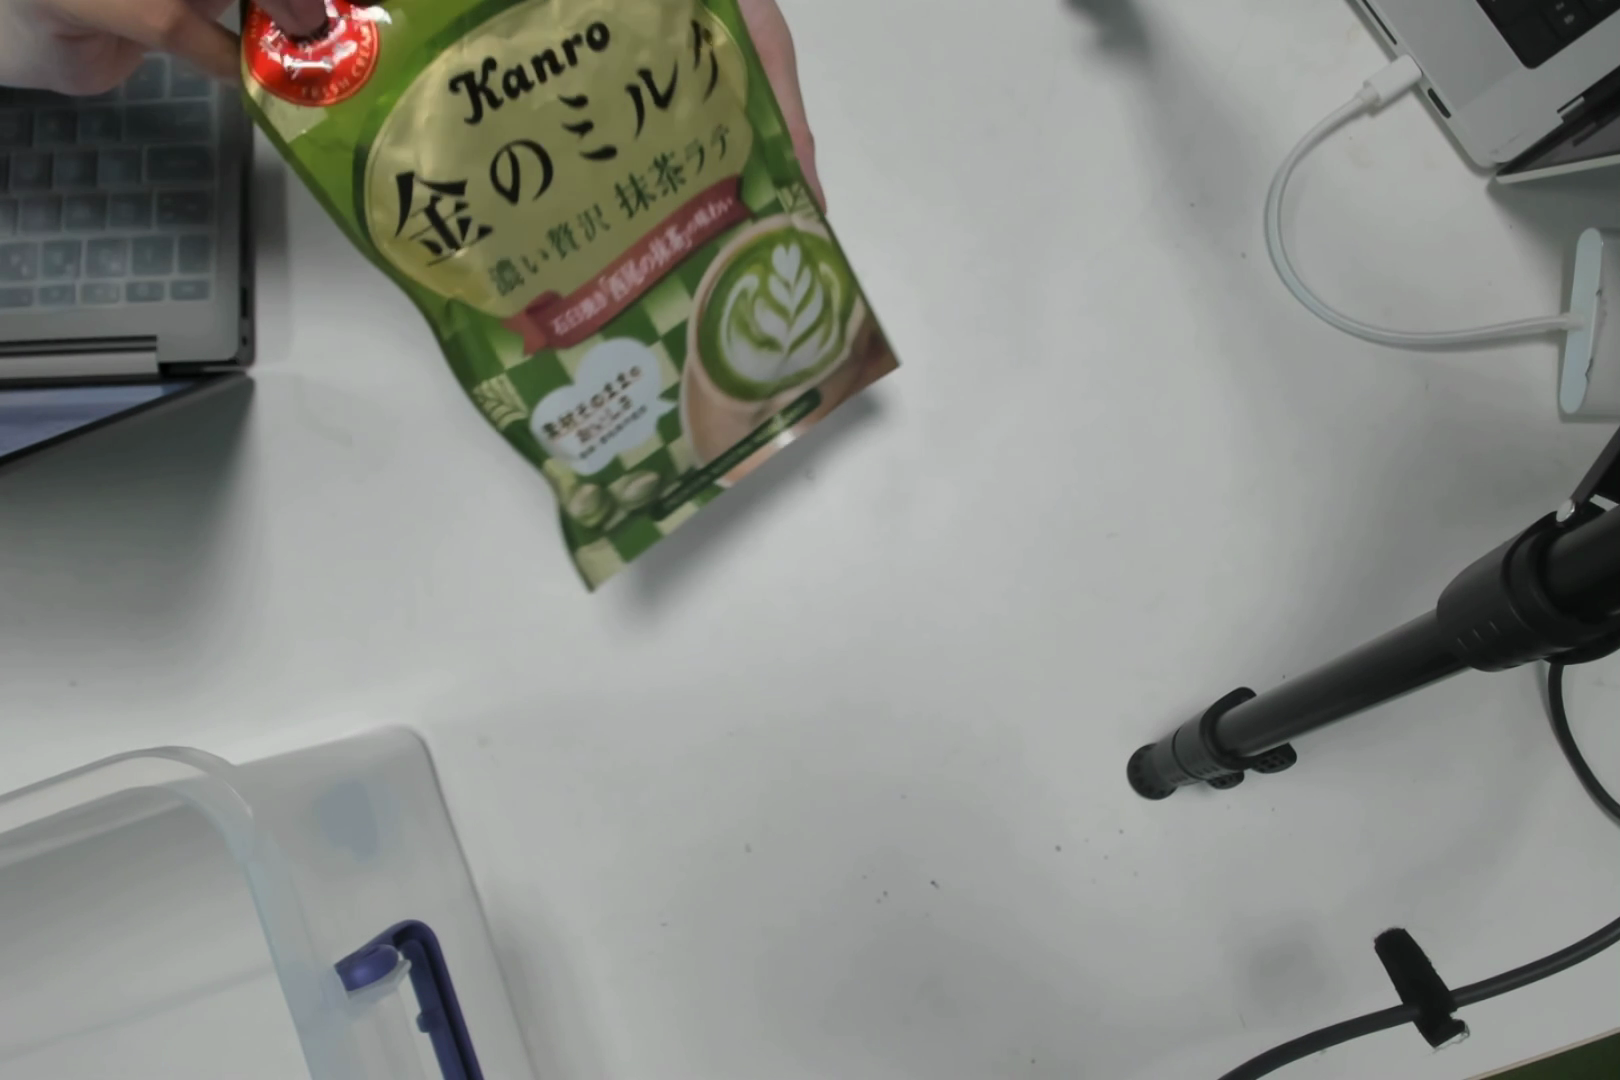SweetsChocolatesOthers_1-99g_NonHalal_NonHealthy: (393, 6, 868, 535)
